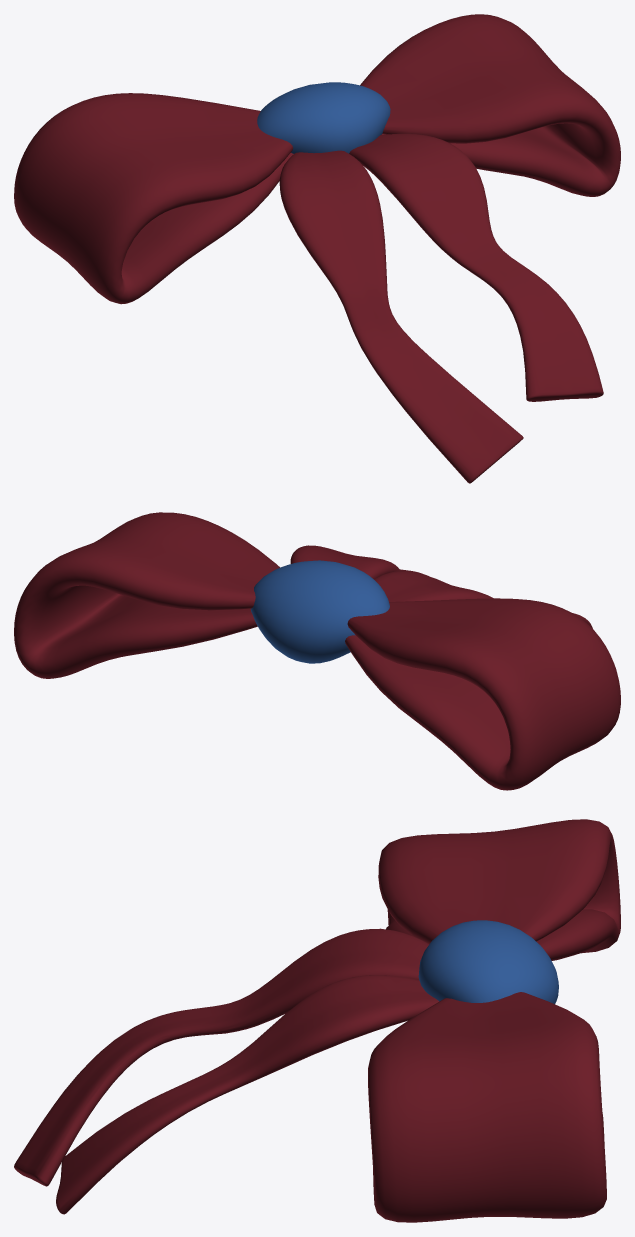
File: Hairbow.fbx
The picture shows the model from 3 angles, top to bottom: view 1: azimuth 30°, elevation 25°; view 2: azimuth 150°, elevation 25°; view 3: azimuth 270°, elevation 25°; orthographic projection. The views are drawn at different scales.
Visible parts, largest first — view 1: Hair_ribbon_left1, Hair_ribbon_right1, Hair_ribbon_left2, Hair_ribbon_right2, Hair_ribbon; view 2: Hair_ribbon_left1, Hair_ribbon_right1, Hair_ribbon, Hair_ribbon_left2, Hair_ribbon_right2; view 3: Hair_ribbon_right1, Hair_ribbon_left1, Hair_ribbon_right2, Hair_ribbon_left2, Hair_ribbon.
Boxes of the visible parts, x1,y1,x2,y2 form: Hair_ribbon_left1: (14, 93, 293, 304); Hair_ribbon_right1: (360, 14, 620, 196); Hair_ribbon_left2: (279, 150, 523, 483); Hair_ribbon_right2: (349, 133, 603, 401); Hair_ribbon: (257, 82, 390, 153); Hair_ribbon_left1: (345, 598, 620, 790); Hair_ribbon_right1: (14, 512, 279, 678); Hair_ribbon: (250, 560, 389, 663); Hair_ribbon_left2: (374, 571, 592, 628); Hair_ribbon_right2: (290, 545, 427, 579); Hair_ribbon_right1: (368, 992, 606, 1222); Hair_ribbon_left1: (378, 819, 620, 960); Hair_ribbon_right2: (56, 975, 438, 1214); Hair_ribbon_left2: (14, 928, 428, 1186); Hair_ribbon: (418, 920, 558, 1004).
Size of the model in its own units: 114 by 49.76 by 100.
